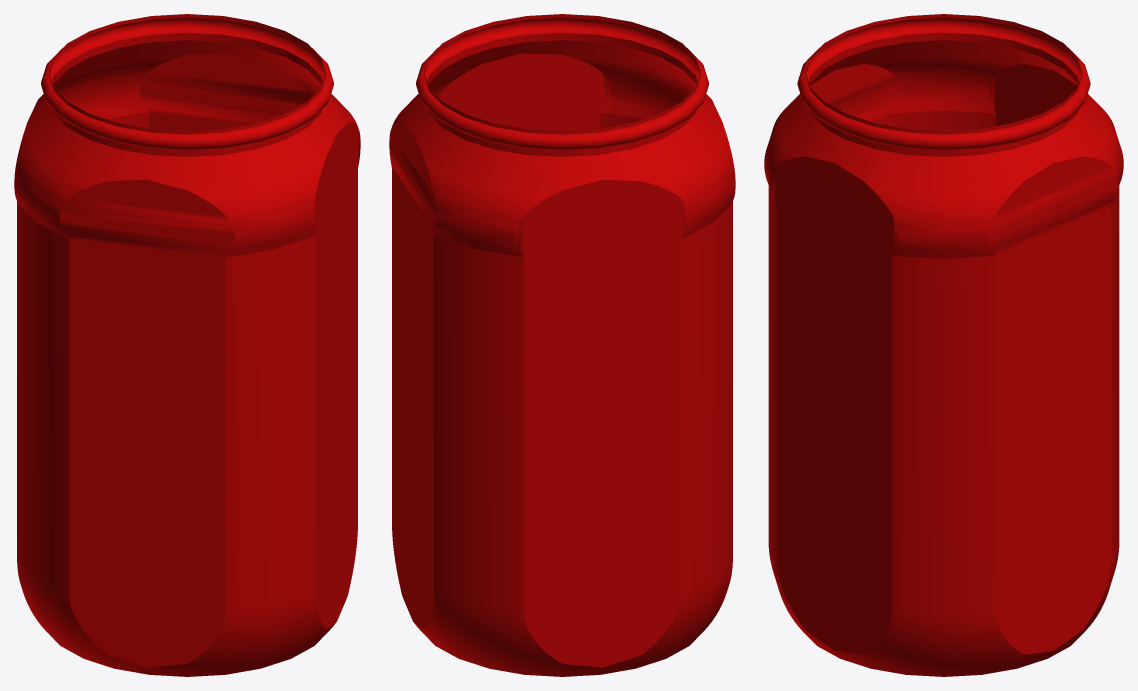
File: original-2.obj
3 views of the same model, side by side, from view 1: azimuth 30°, elevation 25°; view 2: azimuth 150°, elevation 25°; view 3: azimuth 270°, elevation 25° (orthographic).
Parts seen in each view (by area): view 1: mesh2/mesh2-geometry#mesh2-geometry; view 2: mesh2/mesh2-geometry#mesh2-geometry; view 3: mesh2/mesh2-geometry#mesh2-geometry.
Part boxes in pixels (x1,y1,x2,y2): mesh2/mesh2-geometry#mesh2-geometry: (14,14,360,676); mesh2/mesh2-geometry#mesh2-geometry: (389,14,735,676); mesh2/mesh2-geometry#mesh2-geometry: (764,14,1123,676).
Size of the model in its own units: 0.9875 by 1.67 by 0.9875.
